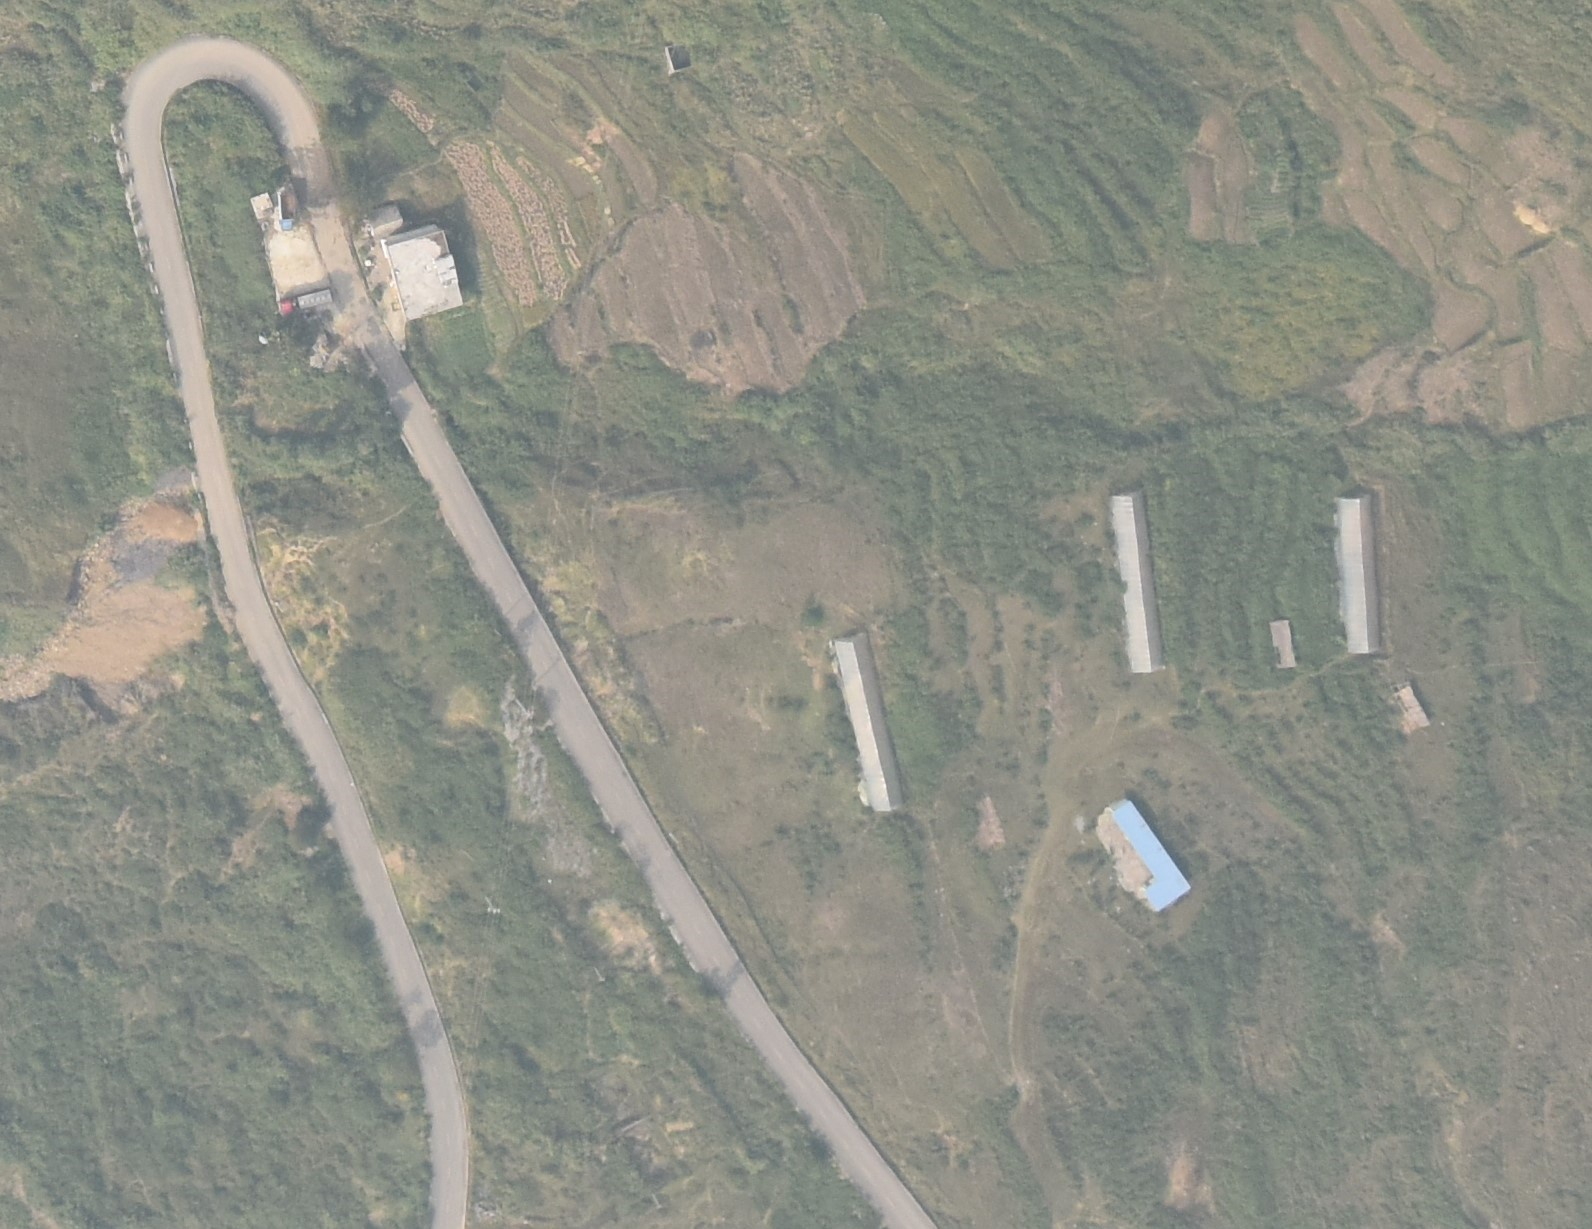building: (830, 628, 904, 812), (1111, 488, 1168, 669), (380, 226, 463, 318), (1333, 493, 1378, 655), (1392, 681, 1429, 729), (1269, 619, 1295, 666), (367, 203, 401, 236), (665, 40, 695, 77), (253, 191, 273, 220)
cable-tower: (484, 897, 501, 914)
prefabricated-house: (1111, 801, 1193, 913)
vehicle: (278, 289, 333, 317), (277, 187, 295, 230)
